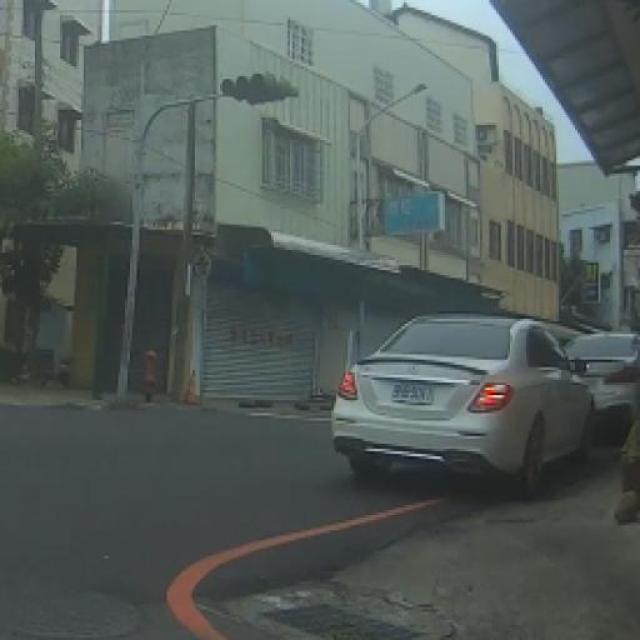illegalparking: (316, 268, 604, 539)
